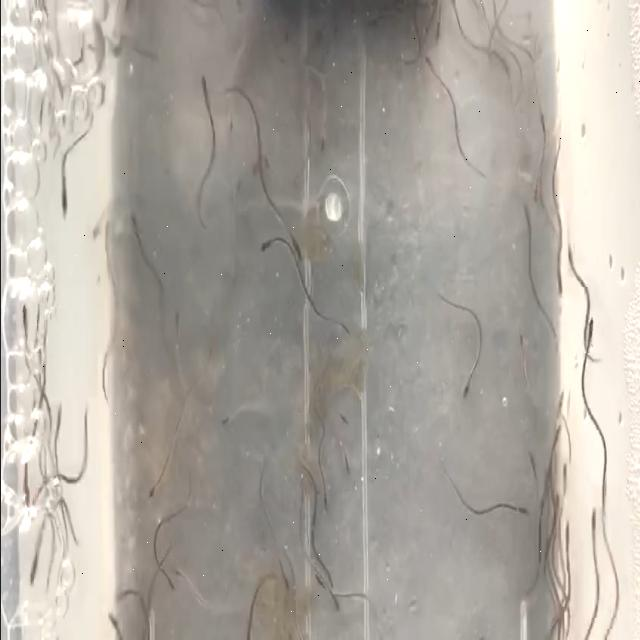active_glass_eel: (52, 171, 70, 225), (288, 233, 312, 272), (16, 284, 30, 346), (578, 303, 594, 357), (252, 232, 280, 262), (125, 212, 146, 248), (586, 490, 602, 536), (517, 190, 531, 242), (318, 474, 332, 522), (216, 392, 232, 434), (456, 370, 471, 412), (18, 478, 32, 522), (512, 494, 530, 528), (324, 584, 340, 622), (140, 468, 156, 506), (339, 442, 353, 484), (96, 219, 115, 249), (554, 374, 568, 414), (100, 606, 120, 634), (320, 564, 338, 595), (170, 558, 188, 589), (562, 230, 576, 268), (109, 580, 129, 606), (193, 70, 210, 100), (21, 557, 36, 591), (526, 175, 544, 202), (524, 442, 538, 474), (552, 268, 564, 300), (515, 328, 527, 356), (163, 570, 175, 596), (422, 44, 436, 66), (559, 452, 567, 488), (552, 418, 562, 445), (562, 514, 570, 544)
